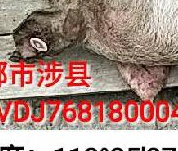text: (19, 28, 58, 61)
